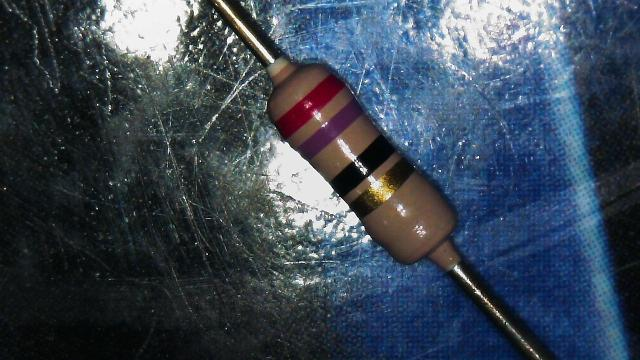black: (330, 133, 396, 197)
gold: (349, 156, 415, 218)
red: (276, 74, 344, 138)
resistor: (229, 19, 478, 289)
violet: (297, 97, 363, 159)
